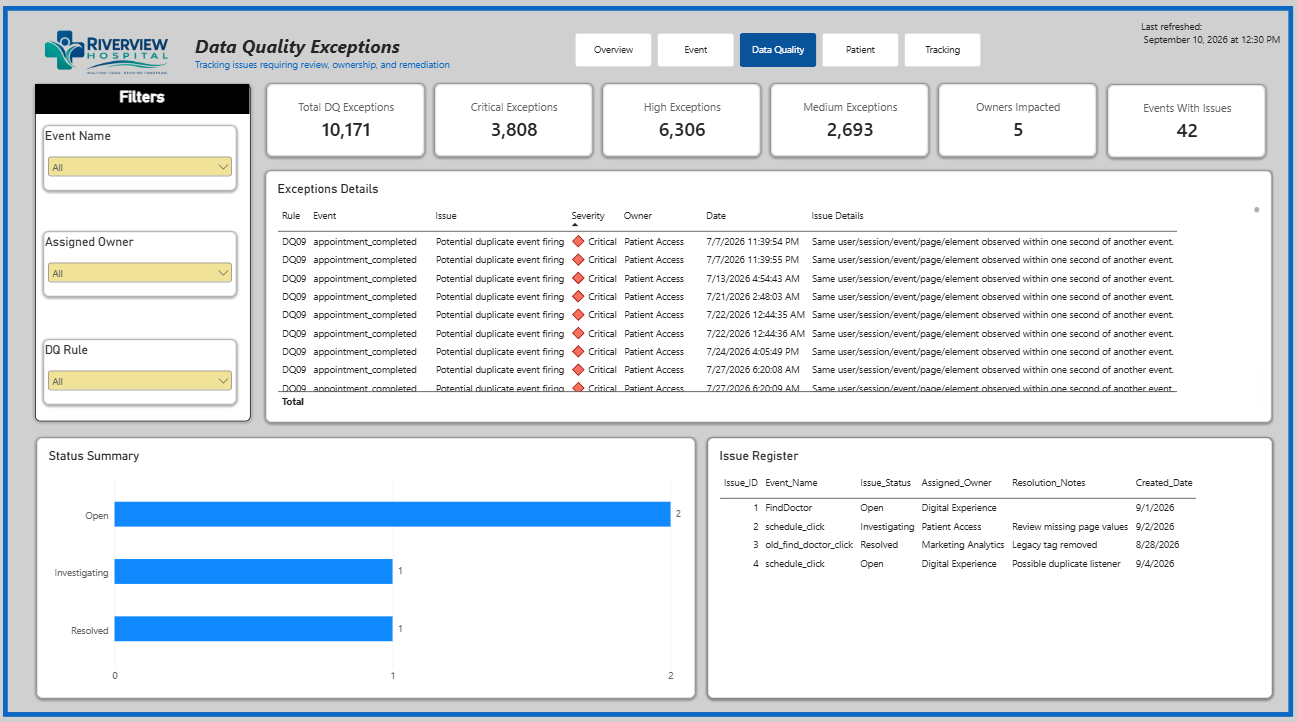

The page's visual inventory and layout, read from the dashboard file:
{"tool":"powerbi","page":{"name":"Data Quality","canvas":[1920,1080],"ordinal":2},"visuals":[{"type":"shape","box":[11.8,11.8,1896.7,1045],"z":0},{"type":"textbox","box":[58.2,126.4,317,495.5],"z":1000},{"type":"textbox","title":"Filters","box":[59,127,315,44.1],"z":2000},{"type":"textbox","box":[294.4,51.3,502.7,62.8],"z":3000},{"type":"cardVisual","title":"Governed Claim %","fields":{"Data":["governed vw_TrackingDQExceptions.Total DQ Exceptions"]},"box":[399.2,126.4,231,106],"z":4000},{"type":"cardVisual","title":"Governed Claim %","fields":{"Data":["governed vw_TrackingDQExceptions.1_Critical Exceptions"]},"box":[646.5,126.4,231,106],"z":5000},{"type":"cardVisual","title":"Governed Claim %","fields":{"Data":["governed vw_TrackingDQExceptions.High Exceptions"]},"box":[893.8,126.4,231,106],"z":6000},{"type":"cardVisual","title":"Governed Claim %","fields":{"Data":["governed vw_TrackingDQExceptions.Events With Issues"]},"box":[1635.6,127.3,231,106],"z":7000},{"type":"clusteredBarChart","title":"Status Summary","fields":{"Category":["governed DQ_Issue_Register.Issue_Status"],"Y":["CountNonNull(governed DQ_Issue_Register.Issue_ID)"]},"box":[61.2,646.6,967.4,382],"z":8000},{"type":"tableEx","title":"Exceptions Details","fields":{"Values":["governed vw_TrackingDQExceptions.DQ_Rule","governed vw_TrackingDQExceptions.Event_Name","governed vw_TrackingDQExceptions.Issue_Type","governed vw_TrackingDQExceptions.Severity","governed vw_TrackingDQExceptions.Assigned_Owner","governed vw_TrackingDQExceptions.Issue_Timestamp","governed vw_TrackingDQExceptions.Issue_Description"]},"box":[398.6,254.7,1478.4,368.8],"z":9000},{"type":"tableEx","title":"Issue Register","fields":{"Values":["governed DQ_Issue_Register.Issue_ID","governed DQ_Issue_Register.Event_Name","governed DQ_Issue_Register.Issue_Status","governed DQ_Issue_Register.Assigned_Owner","governed DQ_Issue_Register.Resolution_Notes","governed DQ_Issue_Register.Created_Date"]},"box":[1048.5,646.6,828.5,382],"z":10000},{"type":"image","box":[35,11.7,255,133.3],"z":11000},{"type":"pageNavigator","box":[852.3,51.9,600,50],"z":12000},{"type":"textbox","box":[1684.4,32.7,210.6,61.7],"z":13000},{"type":"slicer","title":"DQ Rule","fields":{"Values":["governed vw_TrackingDQExceptions.DQ_Rule"]},"box":[72,503,282,94.3],"z":14000},{"type":"slicer","title":"Assigned Owner","fields":{"Values":["governed vw_TrackingDQExceptions.Assigned_Owner"]},"box":[72,344,282,94.3],"z":15000},{"type":"slicer","title":"Event Name","fields":{"Values":["governed vw_TrackingDQExceptions.Event_Name"]},"box":[72,188,282,94.3],"z":16000},{"type":"cardVisual","title":"Governed Claim %","fields":{"Data":["governed vw_TrackingDQExceptions.Medium Exceptions"]},"box":[1141,126.4,231,106],"z":17000},{"type":"cardVisual","title":"Governed Claim %","fields":{"Data":["governed vw_TrackingDQExceptions.Owners Impacted"]},"box":[1388.3,126.4,231,106],"z":18000}]}

Visuals, with their boxes in screenshot pixels (x1, y1, x2, y2), scaled from the page's 1920x1080 canvas onto the 1297x722 screenshot:
shape: 8/8/1289/706
textbox: 39/85/253/416
"Filters" textbox: 40/85/253/114
textbox: 199/34/538/76
"Governed Claim %" cardVisual: 270/85/426/155
"Governed Claim %" cardVisual: 437/85/593/155
"Governed Claim %" cardVisual: 604/85/760/155
"Governed Claim %" cardVisual: 1105/85/1261/156
"Status Summary" clusteredBarChart: 41/432/695/688
"Exceptions Details" tableEx: 269/170/1268/417
"Issue Register" tableEx: 708/432/1268/688
image: 24/8/196/97
pageNavigator: 576/35/981/68
textbox: 1138/22/1280/63
"DQ Rule" slicer: 49/336/239/399
"Assigned Owner" slicer: 49/230/239/293
"Event Name" slicer: 49/126/239/189
"Governed Claim %" cardVisual: 771/85/927/155
"Governed Claim %" cardVisual: 938/85/1094/155
